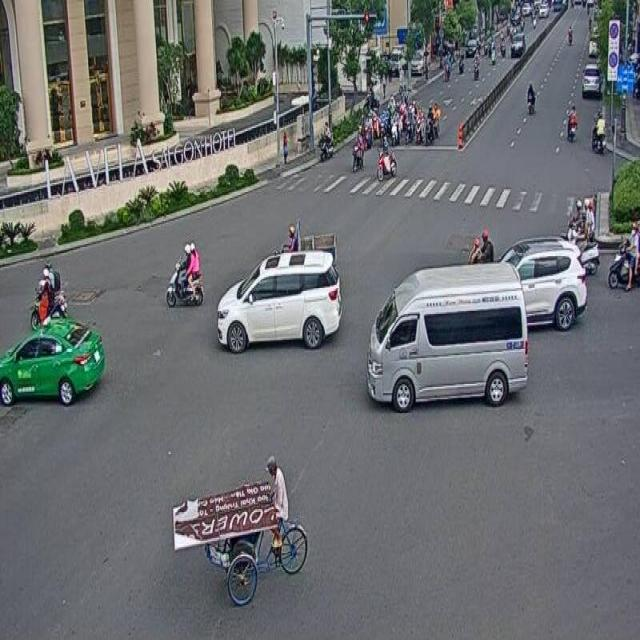bicycle: (226, 454, 308, 605)
car: (210, 253, 342, 353), (0, 316, 104, 402), (498, 239, 586, 329)
motorcycle: (166, 239, 203, 308), (608, 221, 640, 286)
truck: (366, 265, 529, 416)
